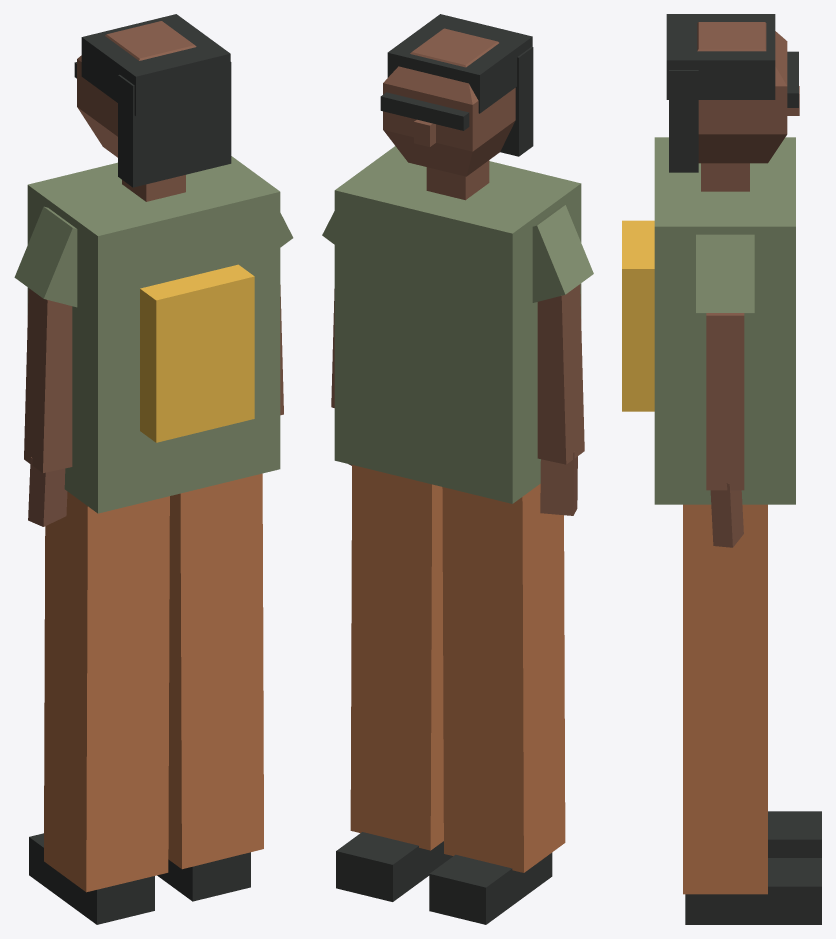
The model's file is pedestrian_14.glb.
3 views of the same model, side by side, from view 1: azimuth 30°, elevation 25°; view 2: azimuth 150°, elevation 25°; view 3: azimuth 270°, elevation 25° (orthographic). The views are drawn at different scales.
Parts seen in each view (by area): view 1: pedestrian_14 crowd_trousers, pedestrian_14 crowd_shirt, pedestrian_14 crowd_rubber, Backpack, pedestrian_14 crowd_skin; view 2: pedestrian_14 crowd_trousers, pedestrian_14 crowd_shirt, pedestrian_14 crowd_skin, pedestrian_14 crowd_rubber; view 3: pedestrian_14 crowd_shirt, pedestrian_14 crowd_trousers, pedestrian_14 crowd_rubber, pedestrian_14 crowd_skin, Backpack.
Boxes of the visible parts, x1,y1,x2,y2 form: pedestrian_14 crowd_trousers: [44, 473, 263, 892]; pedestrian_14 crowd_shirt: [14, 156, 293, 513]; pedestrian_14 crowd_rubber: [29, 14, 250, 924]; Backpack: [140, 264, 254, 442]; pedestrian_14 crowd_skin: [24, 21, 283, 526]; pedestrian_14 crowd_trousers: [350, 465, 565, 872]; pedestrian_14 crowd_shirt: [322, 146, 593, 503]; pedestrian_14 crowd_skin: [331, 28, 584, 515]; pedestrian_14 crowd_rubber: [336, 14, 552, 924]; pedestrian_14 crowd_shirt: [654, 137, 795, 504]; pedestrian_14 crowd_trousers: [683, 504, 767, 894]; pedestrian_14 crowd_rubber: [666, 14, 821, 924]; pedestrian_14 crowd_skin: [697, 22, 799, 547]; Backpack: [622, 220, 654, 411].
Bounding box in the file's own units: 0.527 × 1.71 × 0.3638.
